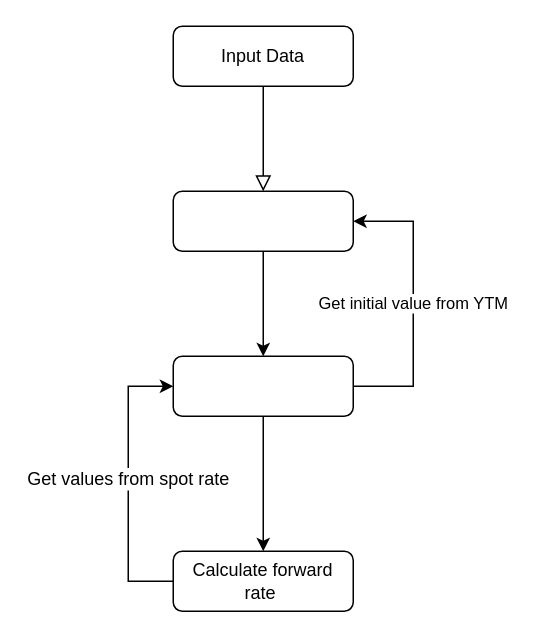
Some shapes in this 533 by 638 pixel diagram are drawn without their labels. The centre of each missing label's shape, as x and y in pixels:
Calculate YTM: point (262, 220)
Use recursive to calculate spot rate: point (262, 385)
